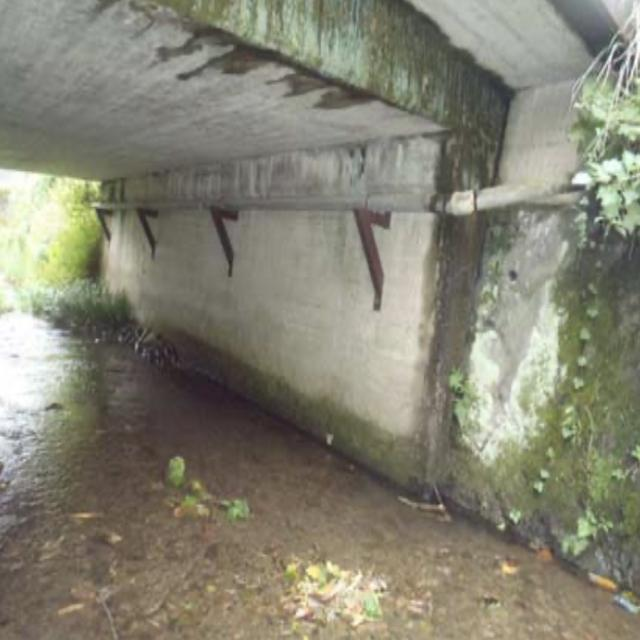leakage: (357, 0, 496, 433)
